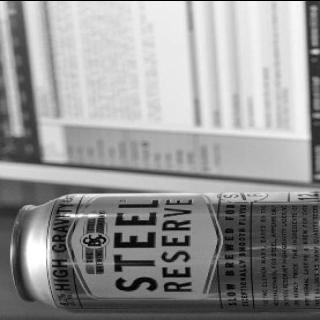alumunium_can: (5, 189, 320, 313)
